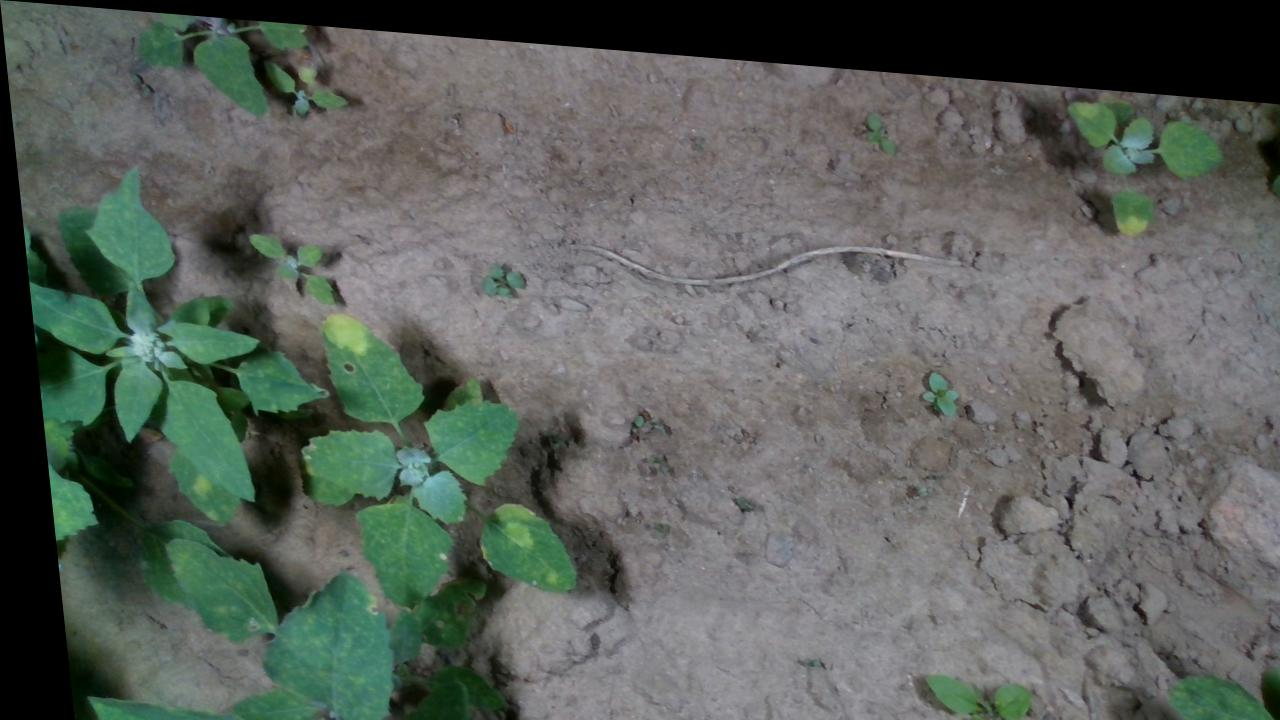weed: (904, 652, 1019, 719), (907, 351, 950, 404), (474, 250, 518, 295), (858, 95, 894, 143), (783, 639, 816, 658)
